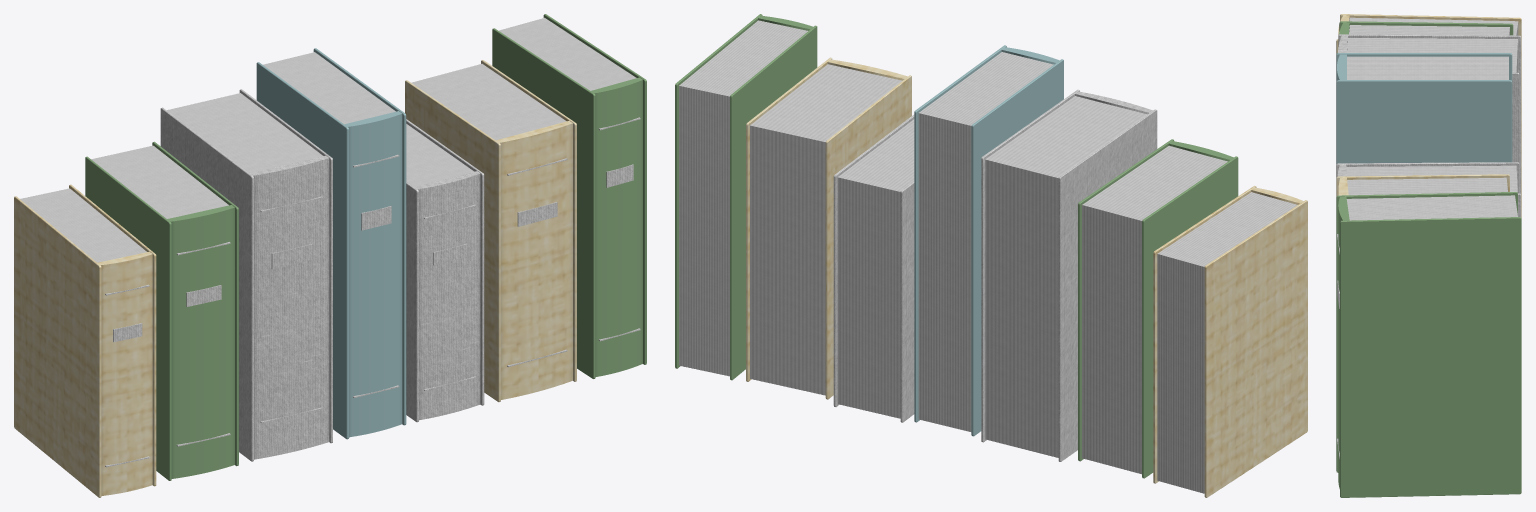
File: books-upright.glb
The picture shows the model from 3 angles, left to right: view 1: azimuth 30°, elevation 25°; view 2: azimuth 150°, elevation 25°; view 3: azimuth 270°, elevation 25°; orthographic projection. The views are drawn at different scales.
Parts seen in each view (by area): view 1: catalog_surface_RealismUV, catalog_surface_UVMap; view 2: catalog_surface_RealismUV, catalog_surface_UVMap; view 3: catalog_surface_RealismUV, catalog_surface_UVMap.
Part boxes in pixels (<box>): catalog_surface_RealismUV: <box>14,14,646,497</box>; catalog_surface_UVMap: <box>256,48,406,439</box>; catalog_surface_RealismUV: <box>675,14,1307,497</box>; catalog_surface_UVMap: <box>914,45,1063,436</box>; catalog_surface_RealismUV: <box>1336,14,1521,497</box>; catalog_surface_UVMap: <box>1336,53,1512,164</box>.
Size of the model in its own units: 0.5359 by 0.2914 by 0.1617.
Materials: 5 (3 with a texture image).
